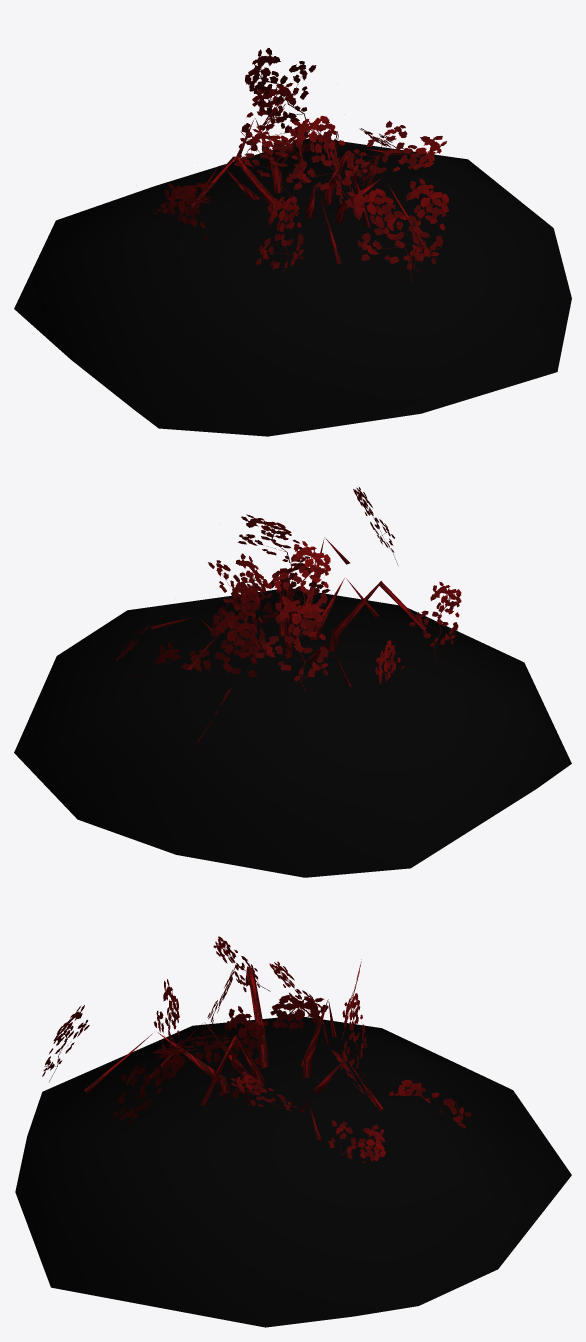
The model's file is bush_snowcap_shrub_a_lod2.glb.
The picture shows the model from 3 angles, top to bottom: view 1: azimuth 30°, elevation 25°; view 2: azimuth 150°, elevation 25°; view 3: azimuth 270°, elevation 25°; orthographic projection. The views are drawn at different scales.
Visible parts, largest first — view 1: bush_snowcap_shrub_a; view 2: bush_snowcap_shrub_a; view 3: bush_snowcap_shrub_a.
Part boxes in pixels (x1,y1,x2,y2): bush_snowcap_shrub_a: (14,48,571,436); bush_snowcap_shrub_a: (14,487,571,877); bush_snowcap_shrub_a: (15,936,571,1327).
Bounding box in the file's own units: 1.58 × 0.9225 × 1.59.
Materials: 1 (1 with a texture image).
